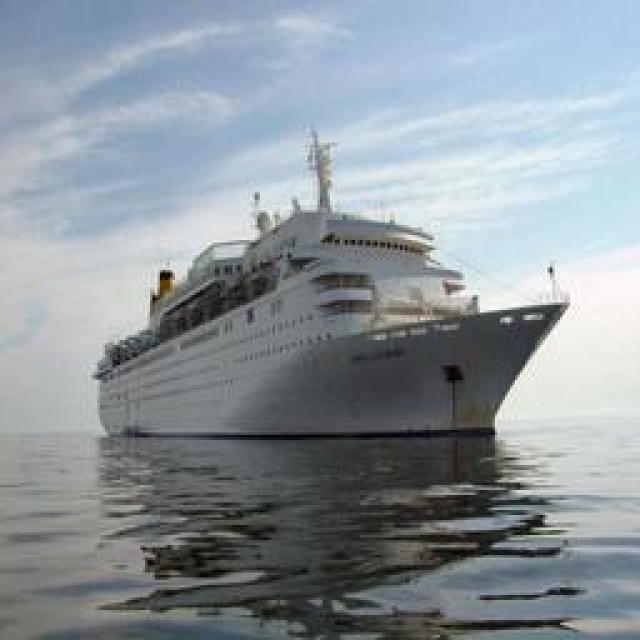CIV_Ship: (102, 196, 560, 436)
